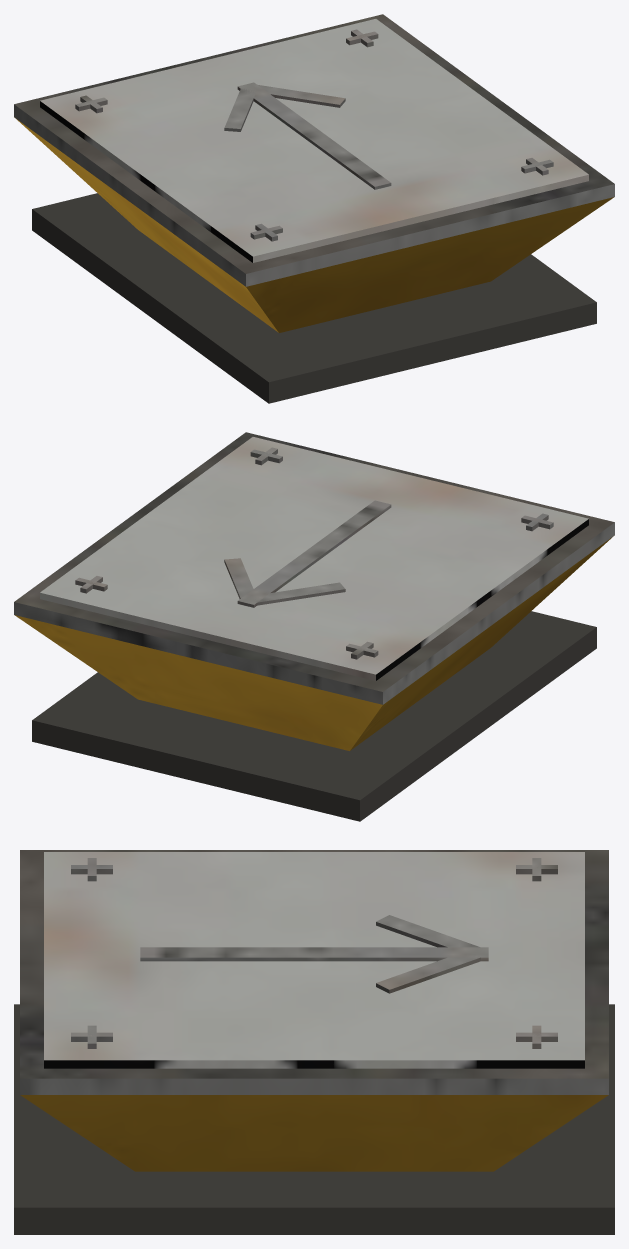
Rendered from loader-1x1.glb.
The picture shows the model from 3 angles, top to bottom: view 1: azimuth 30°, elevation 25°; view 2: azimuth 150°, elevation 25°; view 3: azimuth 270°, elevation 25°; orthographic projection. The views are drawn at different scales.
Visible parts, largest first — view 1: body; view 2: body; view 3: body.
Boxes of the visible parts, x1=… form: body: x1=14, y1=14, x2=614, y2=403; body: x1=14, y1=432, x2=614, y2=821; body: x1=14, y1=850, x2=614, y2=1234.
Size of the model in its own units: 0.9 by 0.335 by 1.
3 materials, 2 textured.
